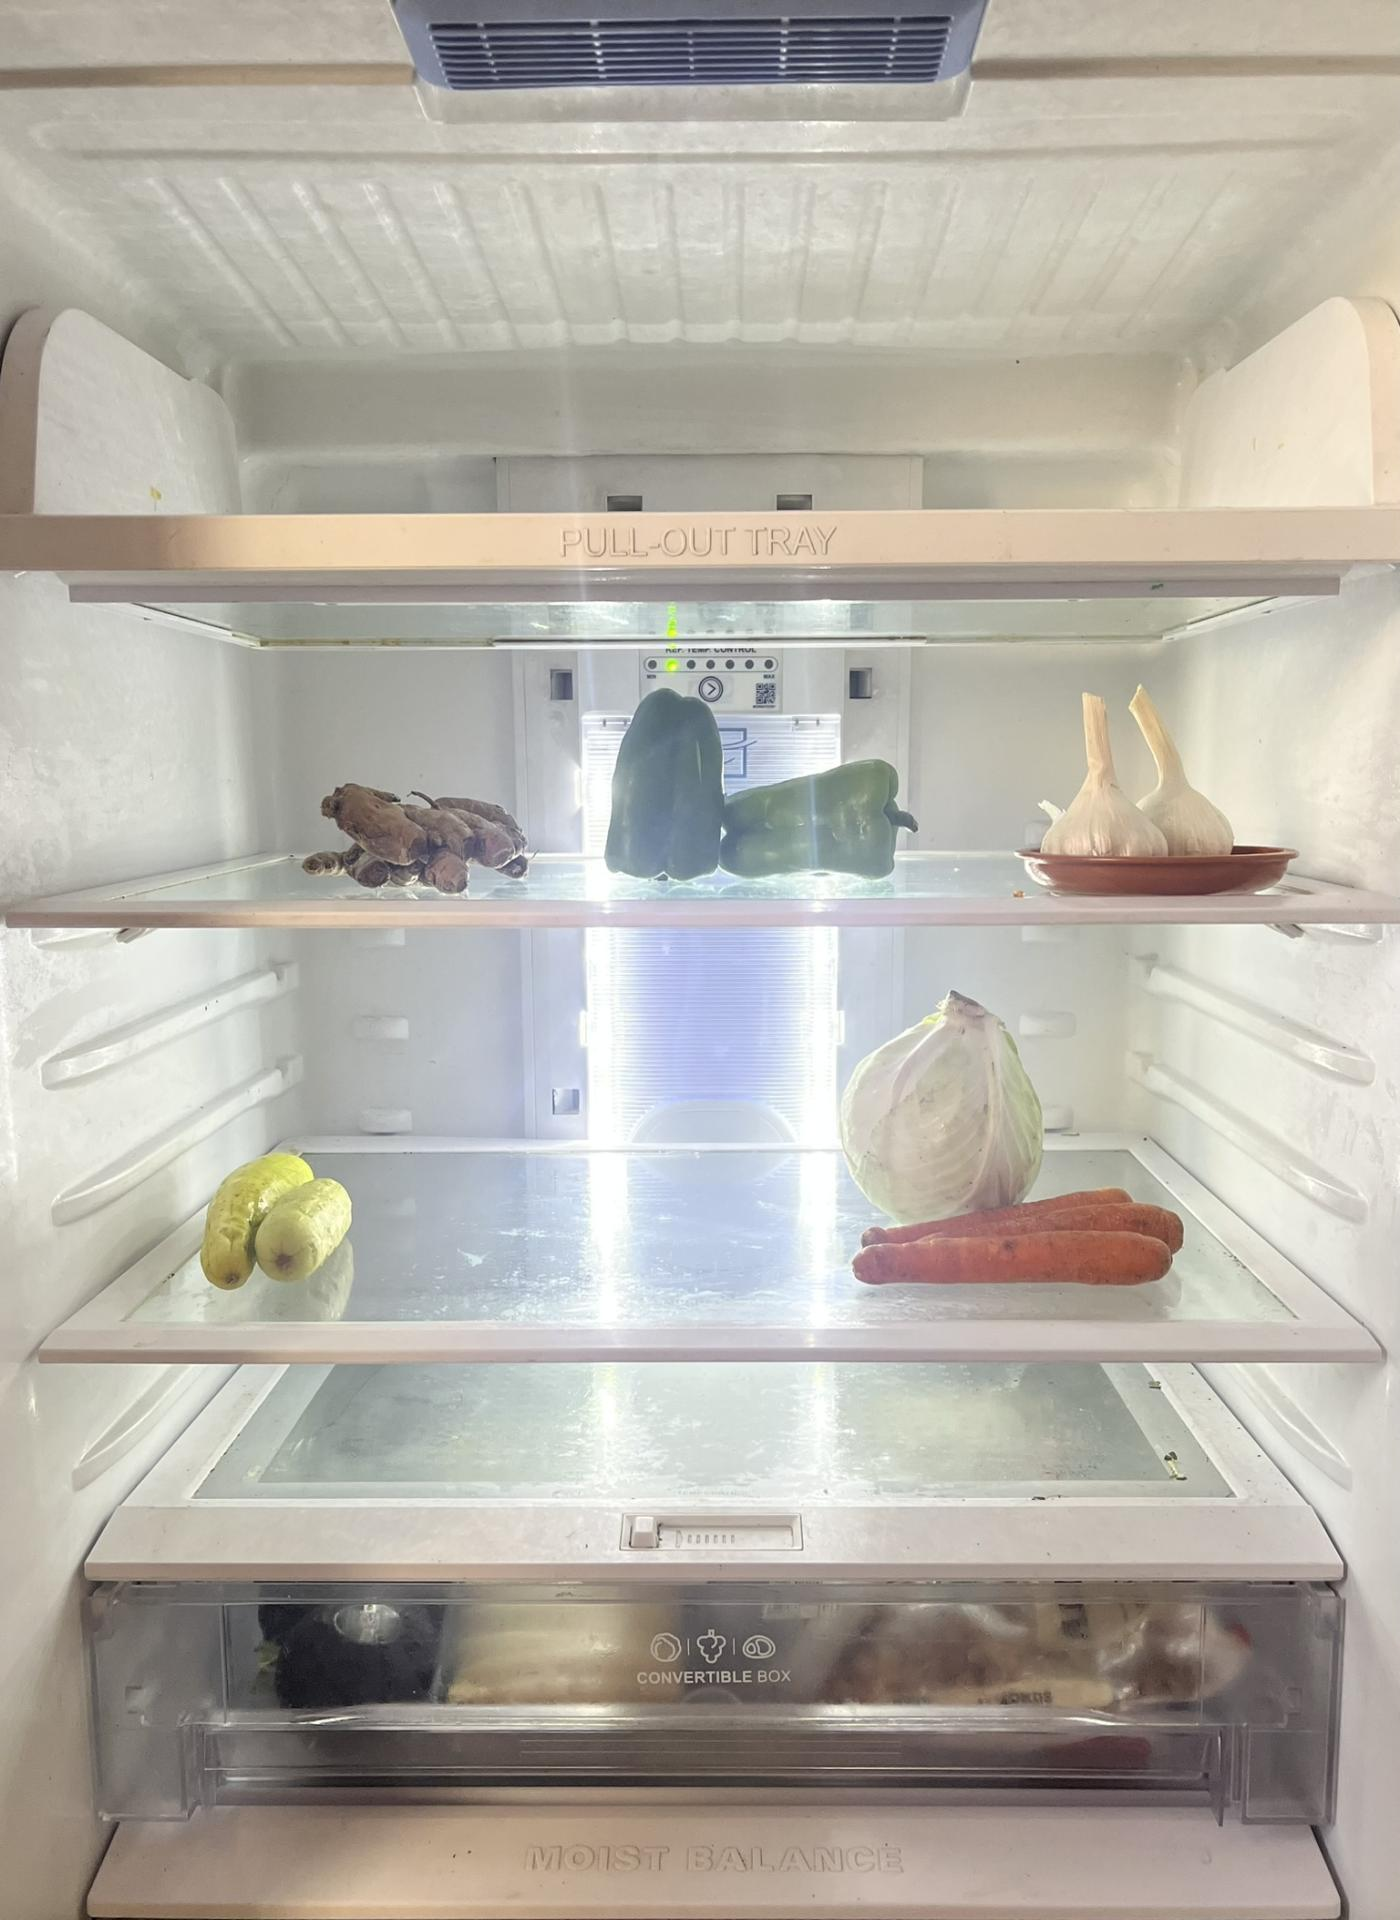cabbage: (836, 984, 1048, 1222)
capsicum: (599, 681, 732, 887), (714, 763, 914, 878)
carrots: (851, 1194, 1212, 1285)
cucumber: (188, 1134, 346, 1300)
garlic: (1045, 684, 1246, 857)
ginger: (304, 778, 535, 884)
